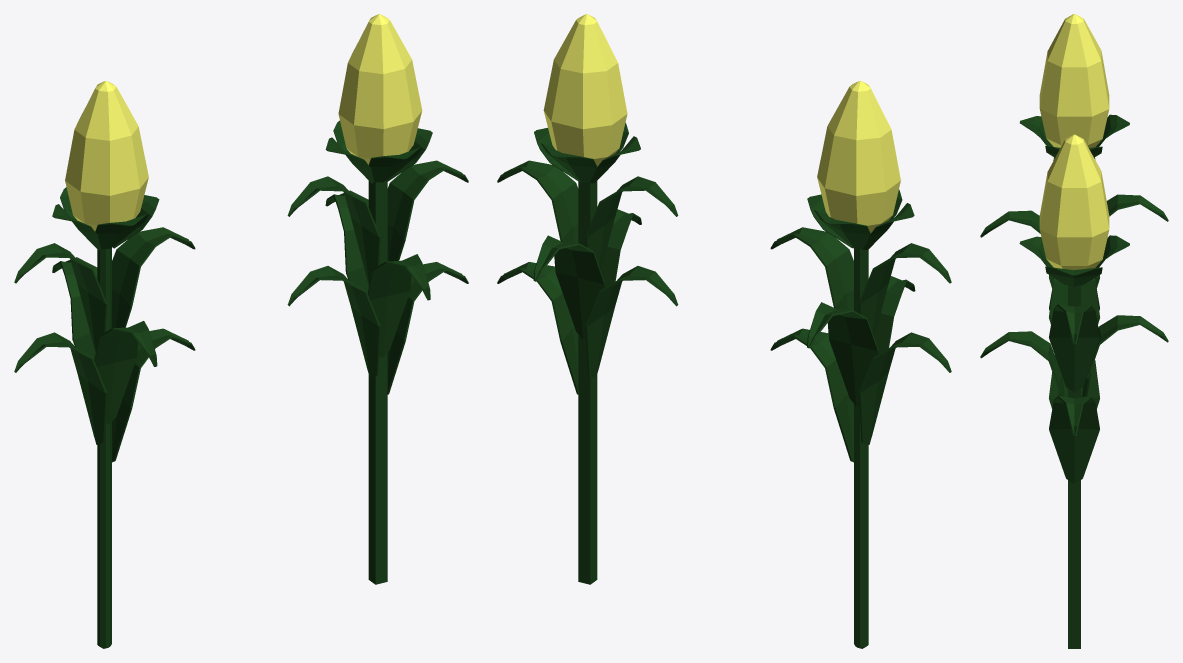
The model's file is EpisMais.fbx.
The picture shows the model from 3 angles, left to right: view 1: azimuth 30°, elevation 25°; view 2: azimuth 150°, elevation 25°; view 3: azimuth 270°, elevation 25°; orthographic projection. The views are drawn at different scales.
Visible parts, largest first — view 1: Feuille, SM_Mais.001, SM_Tige.001, Feuille.008, Feuille.011, Feuille.006, Feuille.010, Feuille.007, Feuille.009, Plane.006; view 2: Feuille, SM_Mais.001, SM_Tige.001, Feuille.009, Feuille.011, Feuille.006, Feuille.007, Feuille.010, Feuille.008, Plane.007; view 3: Feuille, SM_Mais.001, Feuille.009, Feuille.008, Plane.007, Plane.006.
Boxes of the visible parts, x1,y1,x2,y2 form: Feuille: (287, 14, 468, 584); SM_Mais.001: (65, 81, 148, 231); SM_Tige.001: (97, 247, 111, 648); Feuille.008: (94, 321, 157, 424); Feuille.011: (112, 227, 195, 328); Feuille.006: (14, 332, 106, 444); Feuille.010: (14, 243, 106, 352); Feuille.007: (112, 328, 195, 462); Feuille.009: (52, 257, 97, 360); Plane.006: (95, 213, 148, 248); Feuille: (497, 14, 678, 584); SM_Mais.001: (817, 81, 900, 233); SM_Tige.001: (854, 249, 868, 648); Feuille.009: (807, 302, 878, 405); Feuille.011: (770, 227, 853, 310); Feuille.006: (859, 332, 951, 444); Feuille.007: (770, 328, 853, 462); Feuille.010: (859, 243, 951, 337); Feuille.008: (874, 276, 915, 354); Plane.007: (814, 210, 870, 249); Feuille: (980, 134, 1168, 648); SM_Mais.001: (1039, 14, 1109, 147); Feuille.009: (1106, 194, 1168, 221); Feuille.008: (980, 210, 1040, 237); Plane.007: (1095, 114, 1129, 147); Plane.006: (1019, 116, 1053, 146).
Bounding box in the file's own units: 836 × 996 × 332.
